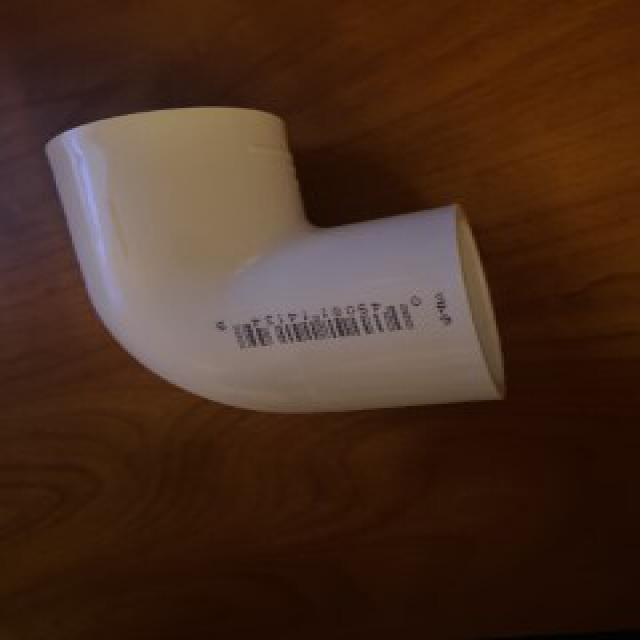L Joint: (44, 107, 508, 417)
